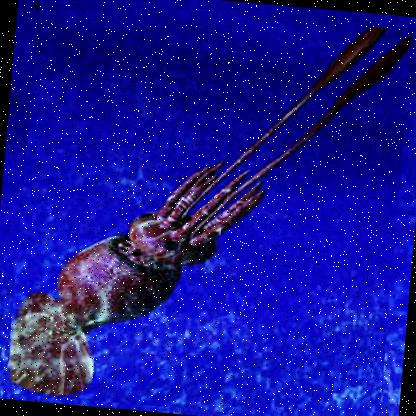colossal_squid: (3, 0, 413, 415)
